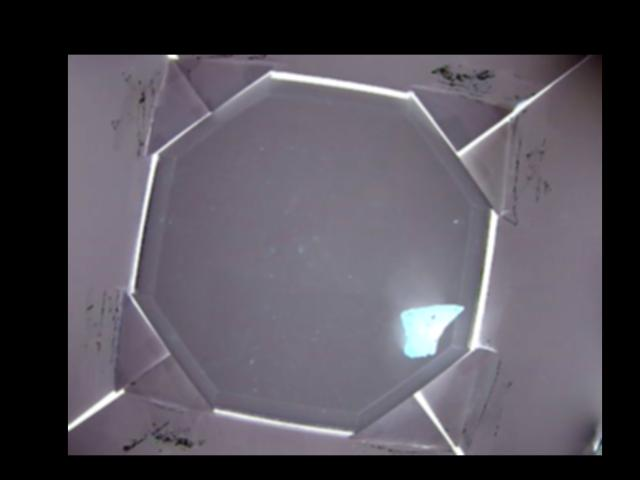Brisk: (400, 303, 467, 357)
